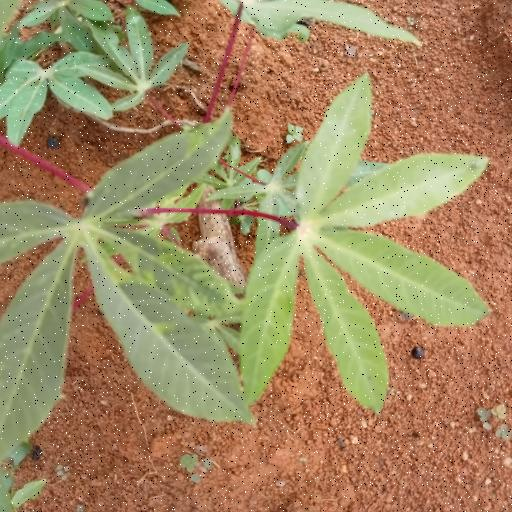Cassava_Mosaic: (0, 107, 237, 448)
